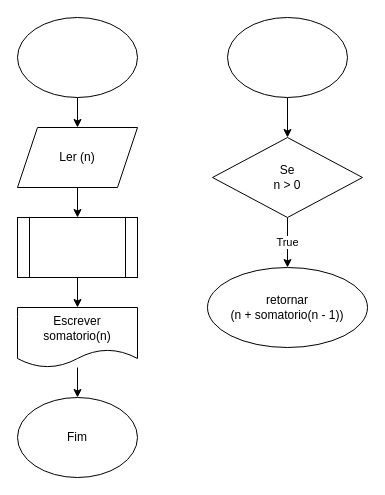
Image size: 385x495. Some labels were removed from this diagram. Here are the shapes that lost their labels. From the top down, the box of each, then its label:
(16, 16, 138, 98): Inicio
(226, 16, 348, 98): somatorio (n)
(16, 216, 138, 278): somatorio(n)
